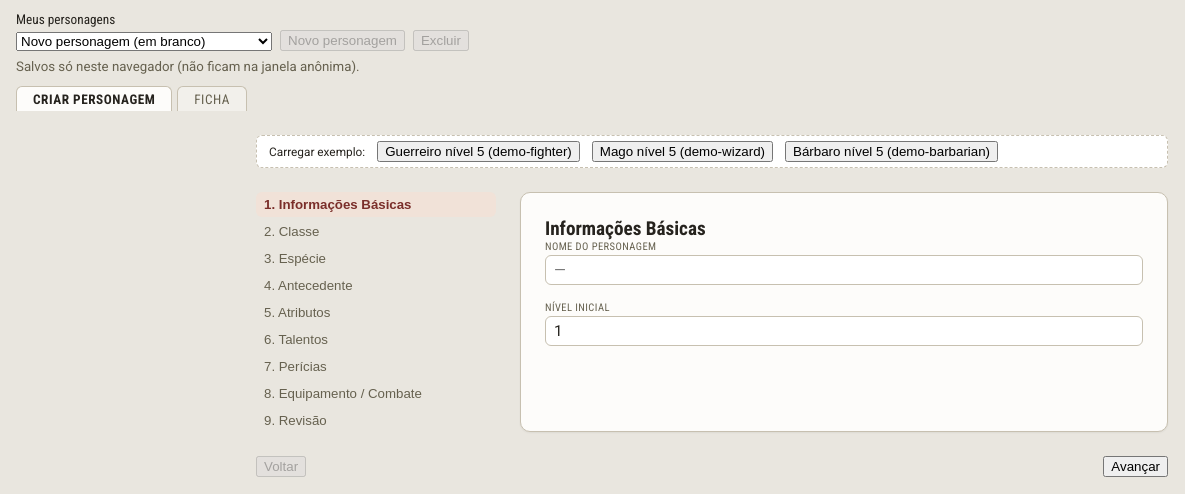
App — modo padrão é o Builder (decisão aprovada §10: interface primária de criação) › clicar numa etapa do indicador salta direto para ela
The image size is (1185, 494).
Click the button "4. Antecedente": [376, 285] box [256,273,496,298]
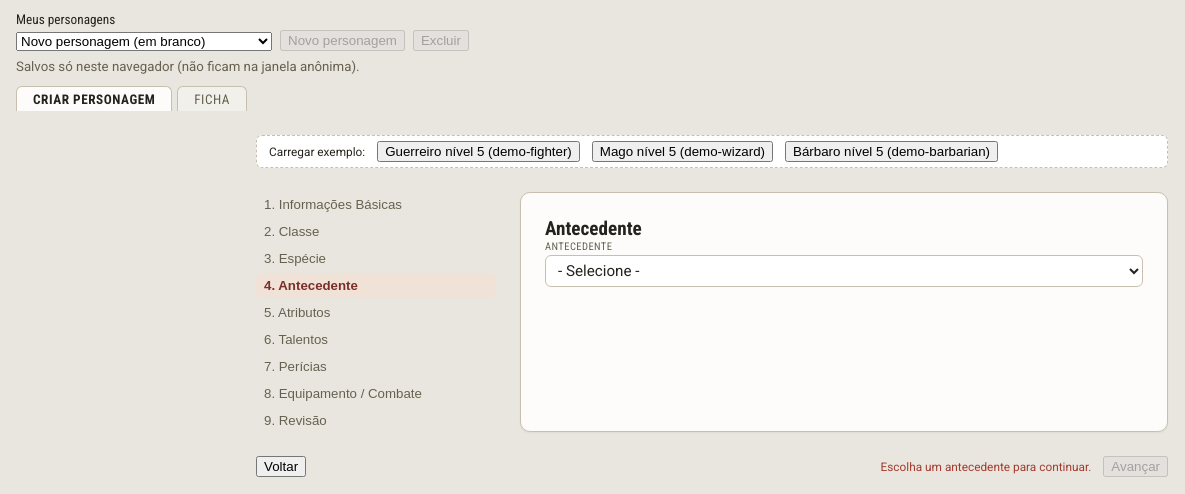
expect the heading "Antecedente" is shown: met, box [545,217,642,240]
